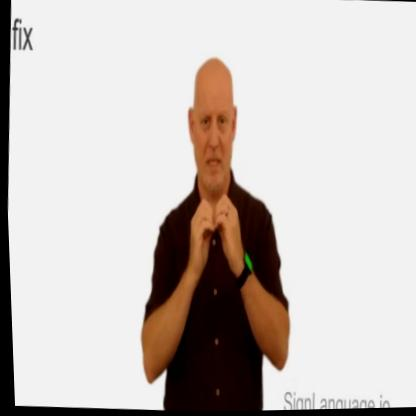Fix: (172, 186, 253, 295)
